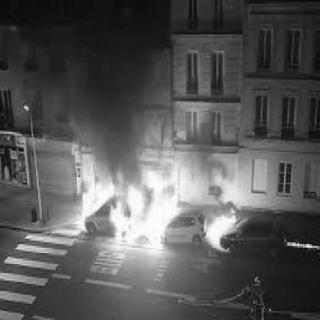Fire: (201, 203, 237, 251)
